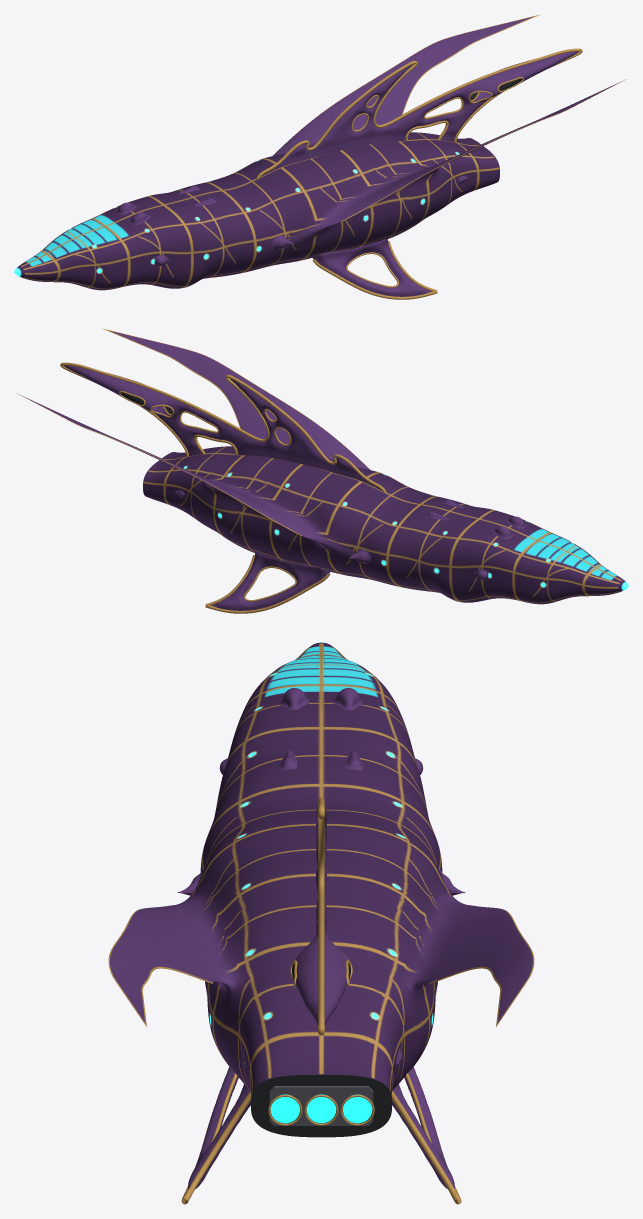
File: model_v46_web.glb
The picture shows the model from 3 angles, top to bottom: view 1: azimuth 30°, elevation 25°; view 2: azimuth 150°, elevation 25°; view 3: azimuth 270°, elevation 25°; orthographic projection. The views are drawn at different scales.
Visible parts, largest first — view 1: EXT__EXT_Hull, EXT__EXT_Blade__NC, EXT__EXT_Blade, EXT__EXT_Copper__NC, EXT__EXT_Copper; view 2: EXT__EXT_Hull, EXT__EXT_Blade__NC, EXT__EXT_Copper__NC; view 3: EXT__EXT_Hull, EXT__EXT_Blade__NC, EXT__INT_Dark, EXT__EXT_Copper__NC, EXT__EXT_Blade, INT_S__INT_Shell, DRV__DRV_Glow__NC, EXT__EXT_Copper.
Boxes of the visible parts, left/top/right/bottom form: EXT__EXT_Hull: left=14, top=14, right=626, bottom=290; EXT__EXT_Blade__NC: left=116, top=51, right=578, bottom=214; EXT__EXT_Blade: left=129, top=175, right=467, bottom=296; EXT__EXT_Copper__NC: left=256, top=48, right=582, bottom=179; EXT__EXT_Copper: left=312, top=241, right=437, bottom=299; EXT__EXT_Hull: left=16, top=328, right=628, bottom=604; EXT__EXT_Blade__NC: left=64, top=365, right=513, bottom=610; EXT__EXT_Copper__NC: left=60, top=362, right=386, bottom=613; EXT__EXT_Hull: left=108, top=642, right=534, bottom=1094; EXT__EXT_Blade__NC: left=295, top=688, right=465, bottom=1188; EXT__INT_Dark: left=251, top=1075, right=391, bottom=1137; EXT__EXT_Copper__NC: left=290, top=798, right=461, bottom=1204; EXT__EXT_Blade: left=177, top=688, right=309, bottom=1188; INT_S__INT_Shell: left=269, top=1086, right=373, bottom=1125; DRV__DRV_Glow__NC: left=306, top=1094, right=372, bottom=1123; EXT__EXT_Copper: left=181, top=1073, right=251, bottom=1204.
Size of the model in its own units: 117 by 40.32 by 37.72.
Materials: 27 (1 with a texture image).
